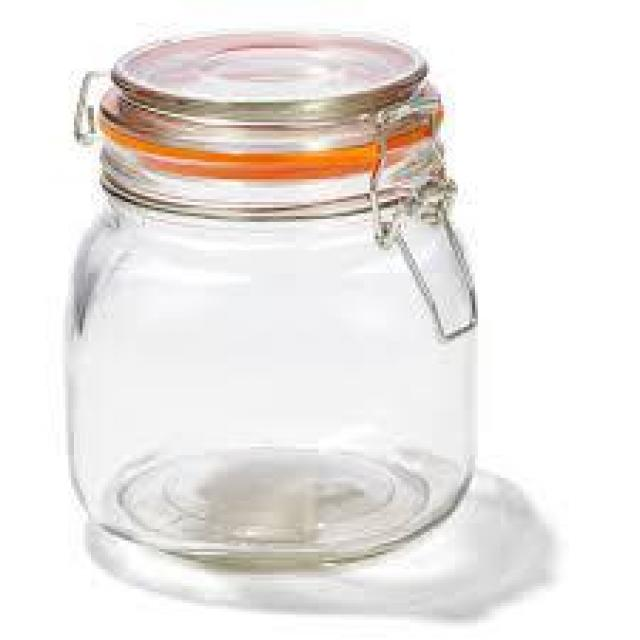non-organic waste: (60, 28, 486, 569)
